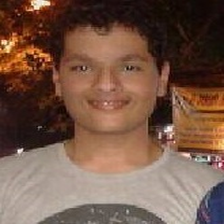no_mask: (59, 30, 159, 131)
